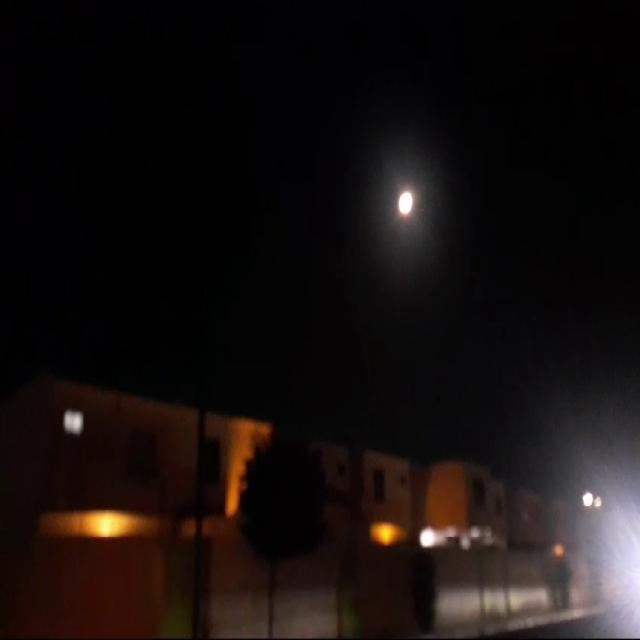moon: (396, 184, 415, 218)
